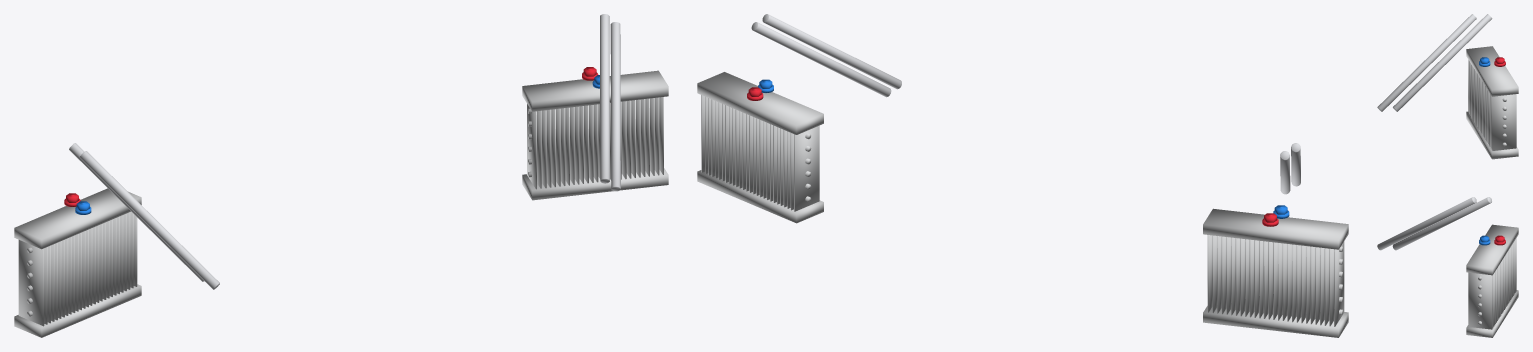
File: auxiliary_coolers.glb
The picture shows the model from 3 angles, left to right: view 1: azimuth 30°, elevation 25°; view 2: azimuth 150°, elevation 25°; view 3: azimuth 270°, elevation 25°; orthographic projection. The views are drawn at different scales.
Visible parts, largest first — view 1: AuxCooler_Core_Left, AuxCooler_Core_Right, Hose_Right_0, Hose_Left_0, Hose_Left_1, Hose_Right_1; view 2: AuxCooler_Core_Right, AuxCooler_Core_Left, Hose_Left_1, Hose_Left_0; view 3: AuxCooler_Core_Left, AuxCooler_Core_Right, Hose_Right_1, Hose_Right_0, Hose_Left_0, Hose_Left_1.
Boxes of the visible parts, x1,y1,x2,y2 form: AuxCooler_Core_Left: [522, 70, 668, 200]; AuxCooler_Core_Right: [14, 188, 141, 337]; Hose_Right_0: [80, 151, 219, 289]; Hose_Left_0: [610, 22, 620, 191]; Hose_Left_1: [600, 14, 609, 183]; Hose_Right_1: [69, 143, 203, 281]; AuxCooler_Core_Right: [1203, 208, 1348, 337]; AuxCooler_Core_Left: [697, 72, 823, 223]; Hose_Left_1: [751, 22, 891, 97]; Hose_Left_0: [762, 14, 901, 89]; AuxCooler_Core_Left: [1466, 224, 1518, 337]; AuxCooler_Core_Right: [1466, 46, 1518, 159]; Hose_Right_1: [1393, 14, 1492, 111]; Hose_Right_0: [1377, 14, 1476, 111]; Hose_Left_0: [1377, 197, 1476, 250]; Hose_Left_1: [1392, 197, 1491, 250].
Size of the model in its own units: 1.37 by 0.3482 by 0.3676.
